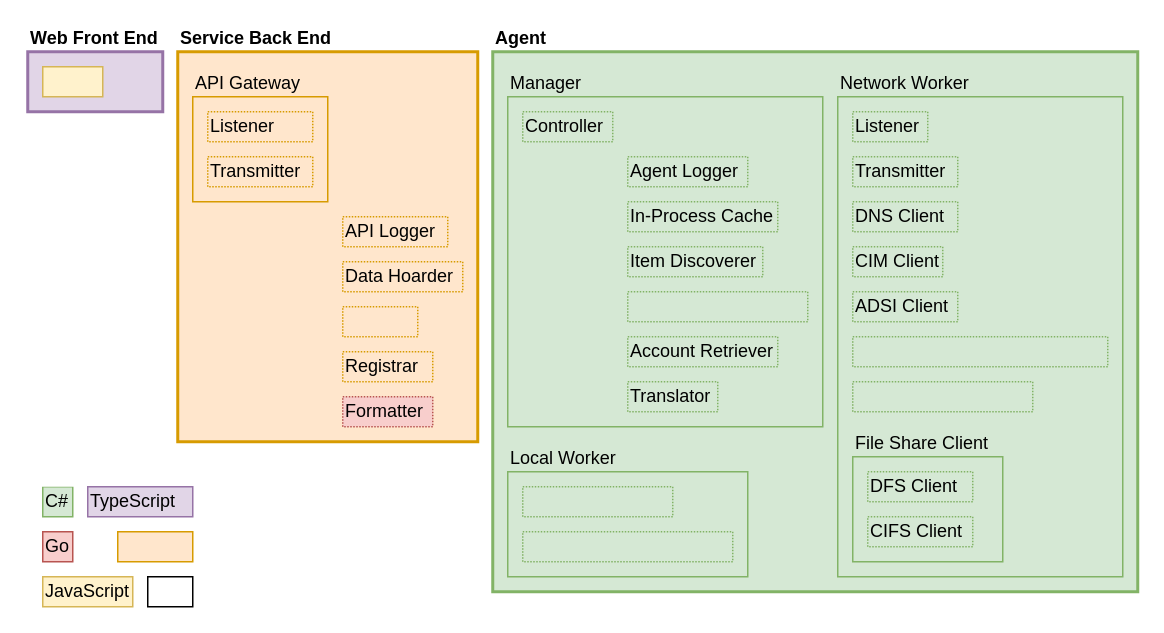
This 1164x633 diagram has some shape labels left out. The centre of each missing label's shape, as x and y in pixels:
ActiveDirectorySecurity Client: pixel 979 351
File System Client: pixel 597 501
Handler: pixel 379 321
LANGUAGE LEGEND: pixel 124 471
N/A: pixel 169 591
Node.js: pixel 154 546
Permission Retriever: pixel 717 306
PnP Core SDK Client: pixel 942 396
React: pixel 72 81
Windows Registry Client: pixel 627 546
